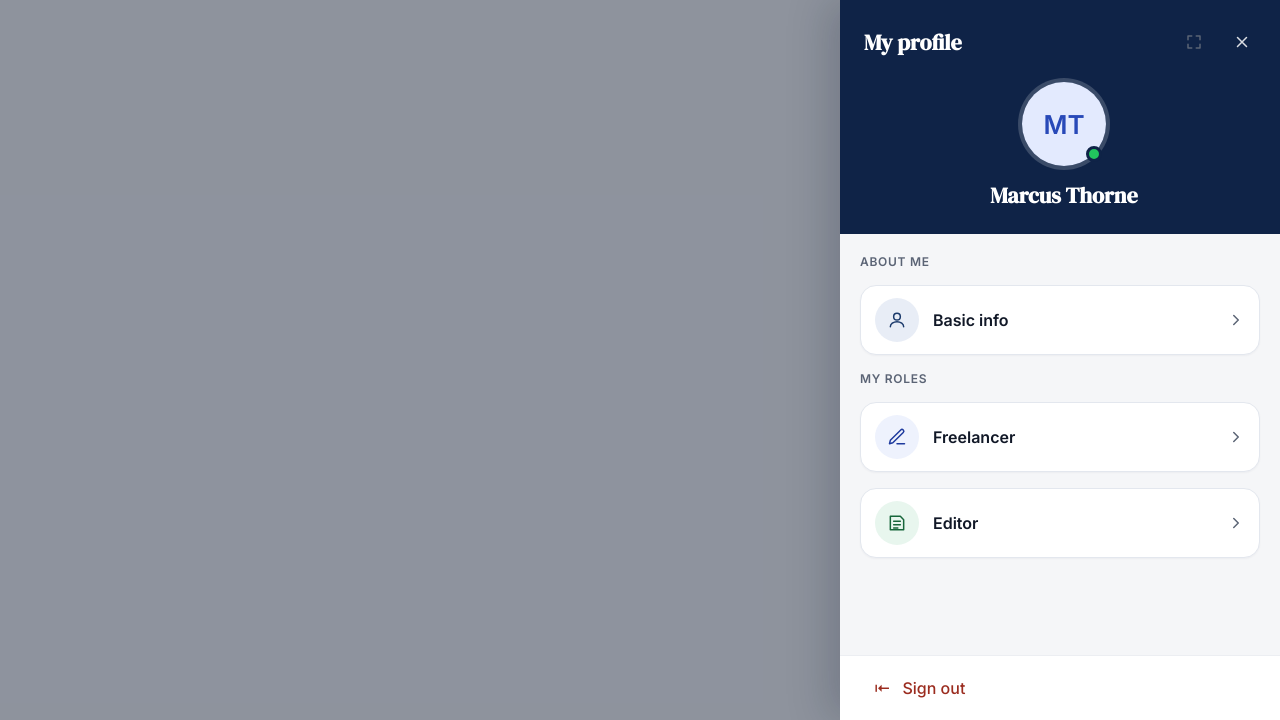
Test: ProfilePanel › opens the basic info in its own drawer
The image size is (1280, 720).
Expected: the text "marcus.thorne@example.com" is not shown
Click the button with aria-label "Open Basic info": x=897, y=320 [860,285,1260,355]
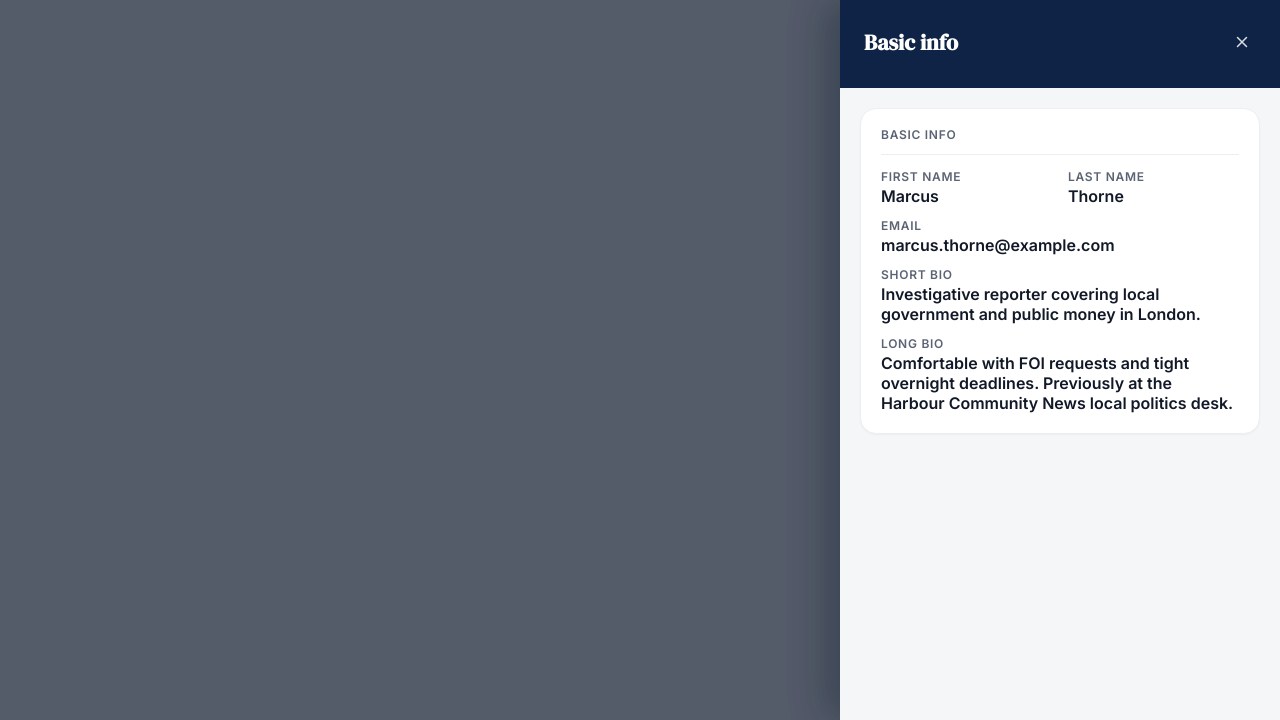
Expected: the dialog "My profile" is shown, [840,0,1279,719]
Result: the text "marcus.thorne@example.com" is shown at [881,235,1115,255]
Result: the text "Investigative reporter covering local government and public money in London." is shown at [881,284,1239,324]
